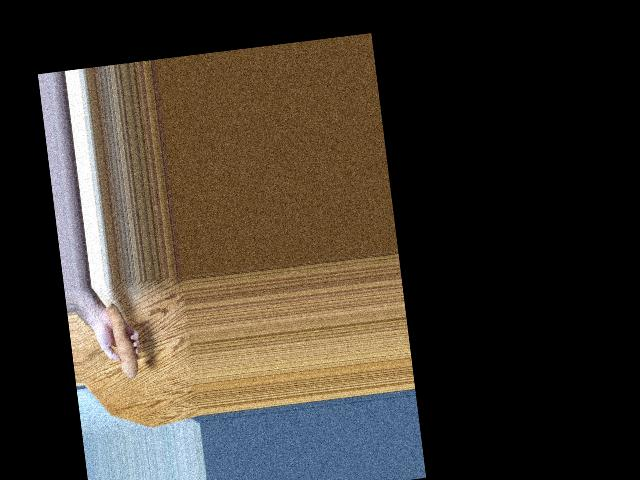sweet_potato: (105, 304, 144, 380)
